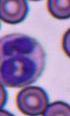N: (0, 33, 45, 86)
